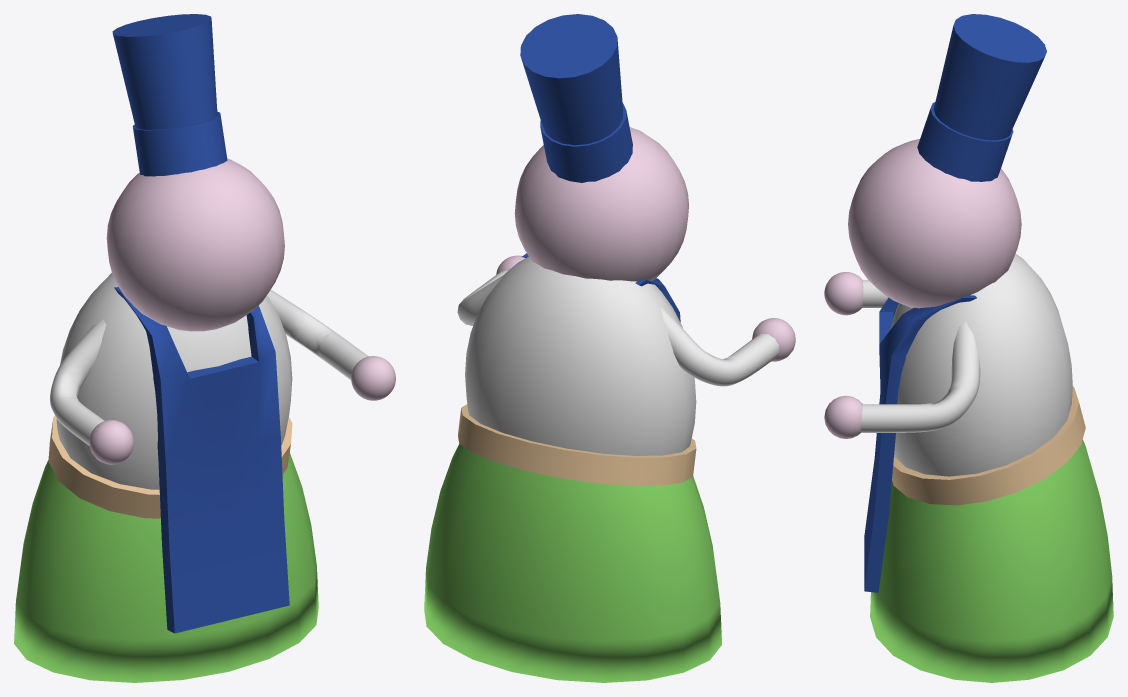
File: bluePlayer_1.fbx
The picture shows the model from 3 angles, left to right: view 1: azimuth 30°, elevation 25°; view 2: azimuth 150°, elevation 25°; view 3: azimuth 270°, elevation 25°; orthographic projection. The views are drawn at different scales.
Visible parts, largest first — view 1: skirt, apron, head, chest, pCylinder1, arm (×2), pCylinder2, belt, pSphere1 (×2); view 2: skirt, chest, head, pCylinder1, belt, arm (×2), pCylinder2, pSphere1; view 3: skirt, chest, head, pCylinder1, apron, belt, arm (×2), pCylinder2, pSphere1 (×2).
Boxes of the visible parts, x1,y1,x2,y2 form: skirt: (14, 452, 318, 682); apron: (114, 287, 289, 633); head: (106, 158, 284, 331); chest: (56, 273, 292, 489); pCylinder1: (112, 14, 217, 129); arm (×2): (50, 290, 368, 445); pCylinder2: (132, 111, 227, 176); belt: (48, 415, 292, 518); pSphere1 (×2): (89, 356, 395, 464); skirt: (424, 444, 721, 682); chest: (465, 256, 696, 455); head: (514, 127, 688, 281); pCylinder1: (520, 14, 623, 145); belt: (458, 404, 696, 485); arm (×2): (457, 270, 779, 386); pCylinder2: (540, 103, 632, 182); pSphere1: (752, 318, 795, 361); skirt: (870, 439, 1113, 682); chest: (890, 253, 1072, 476); head: (848, 139, 1021, 308); pCylinder1: (933, 14, 1046, 140); apron: (864, 295, 976, 592); belt: (892, 386, 1085, 505); arm (×2): (860, 280, 980, 432); pCylinder2: (917, 102, 1013, 181); pSphere1 (×2): (824, 272, 863, 438).
Bounding box in the file's own units: 23.24 × 45.1 × 20.
